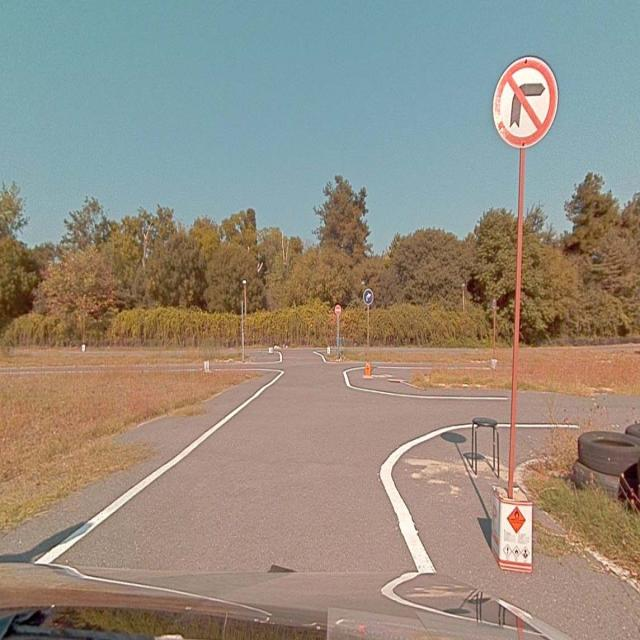girisyok: (335, 305, 341, 315)
sag: (363, 289, 374, 305)
sagadonulmez: (491, 56, 557, 148)
